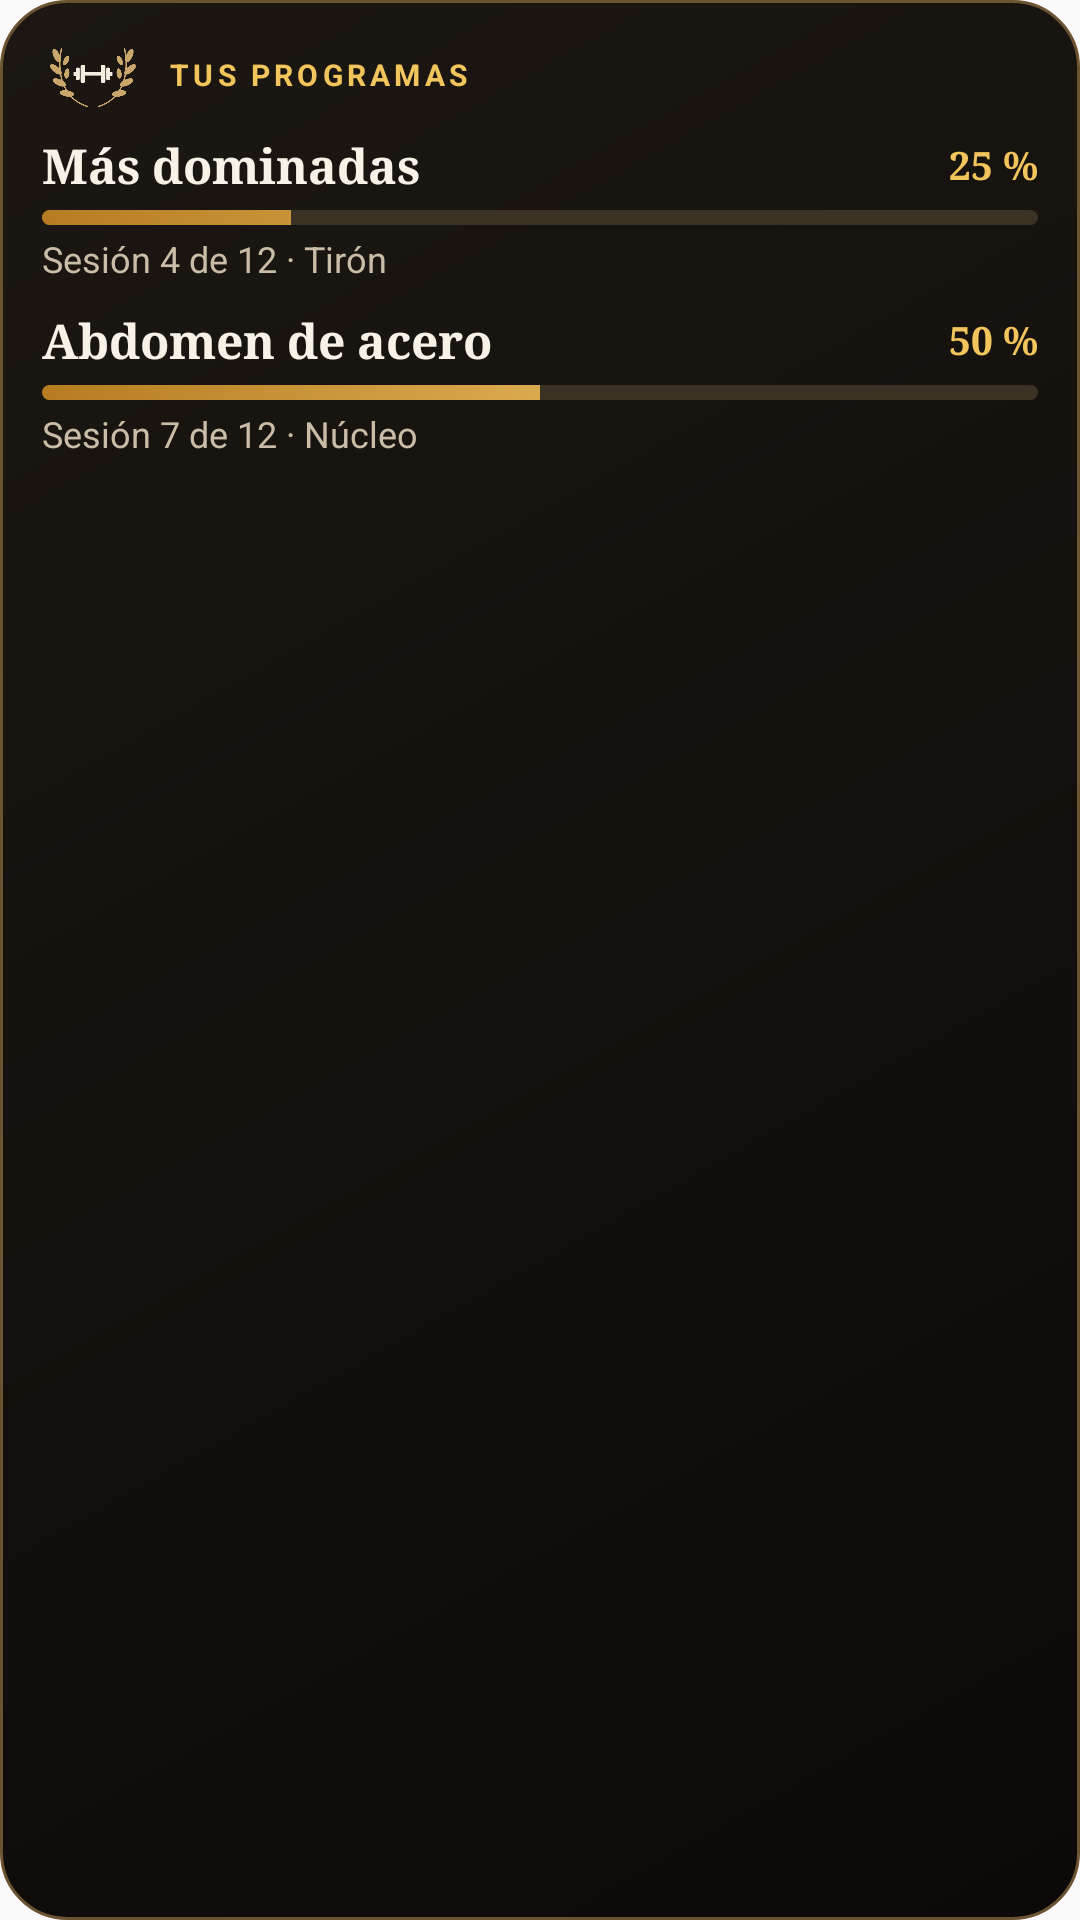

Where to tap for icons on this 1080px x 1920px app screen, as point (x, y):
widget emblema: point (93, 77)
